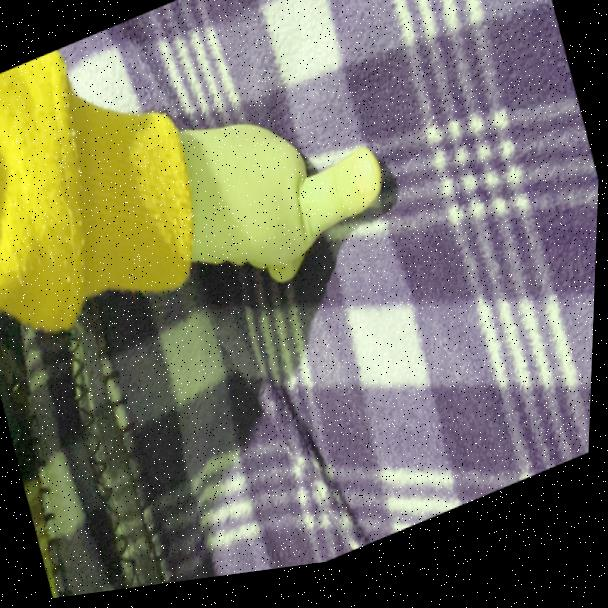five: (162, 53, 419, 334)
